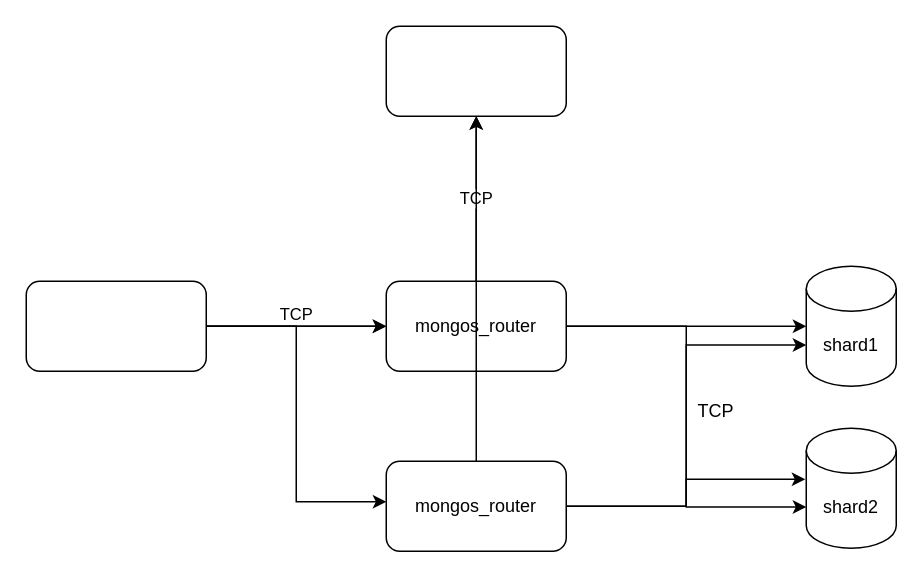
The diagram is 923 pixels wide and 578 high, and some of its shapes have lost their labels. Here are the shapes that lost their labels. From the top down, the box of each, then its label:
(385, 25, 566, 116): configSrv
(25, 280, 206, 371): pymongo-api
